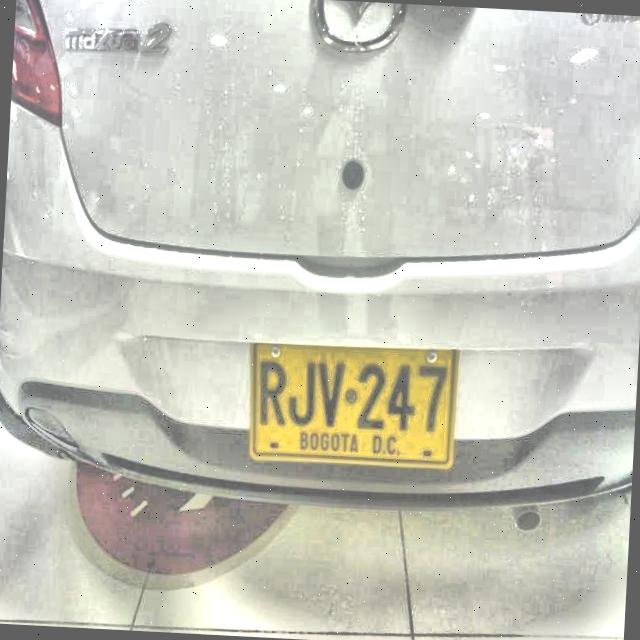2: (355, 358, 388, 432)
4: (384, 360, 420, 430)
7: (416, 362, 448, 433)
J: (286, 360, 318, 428)
R: (256, 358, 290, 427)
V: (317, 361, 348, 429)
